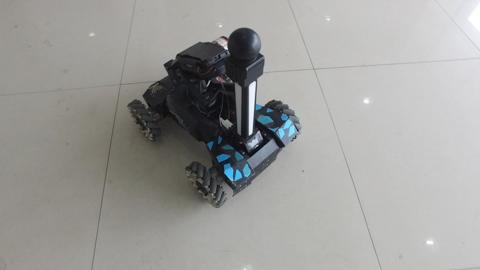chariot: (99, 32, 319, 222)
